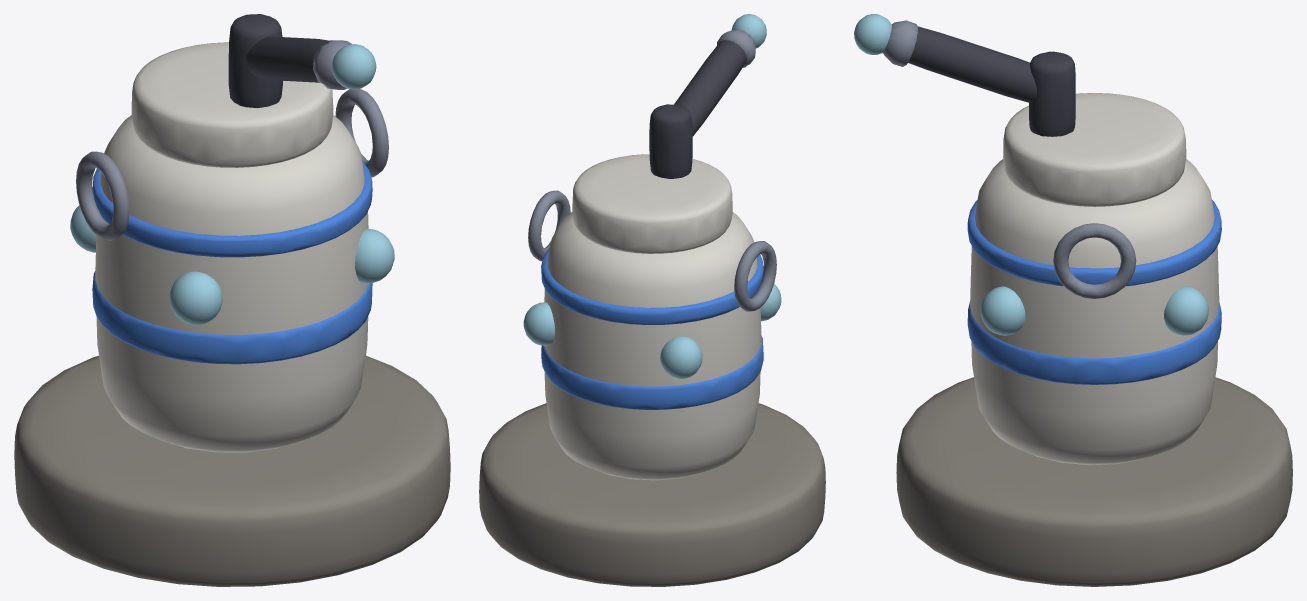
Rendered from EismilchSprueher.fbx.
3 views of the same model, side by side, from view 1: azimuth 30°, elevation 25°; view 2: azimuth 150°, elevation 25°; view 3: azimuth 270°, elevation 25° (orthographic). The views are drawn at different scales.
Parts seen in each view (by area): view 1: EismilchSprueher; view 2: EismilchSprueher; view 3: EismilchSprueher.
Part boxes in pixels (box(x1,y1,x2,y2)): EismilchSprueher: box(14, 14, 450, 586); EismilchSprueher: box(479, 14, 825, 586); EismilchSprueher: box(854, 14, 1292, 586).
Size of the model in its own units: 0.9347 by 1.29 by 1.03.
